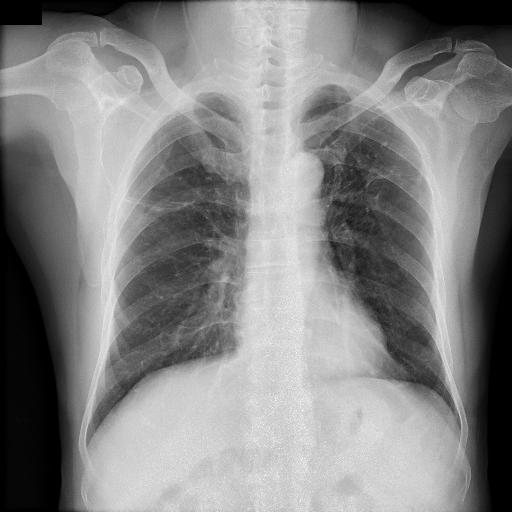Aortic enlargement: (266, 132, 306, 172)
Pleural thickening: (286, 64, 314, 102)
Pulmonary fibrosis: (283, 105, 376, 164), (76, 184, 162, 208)
